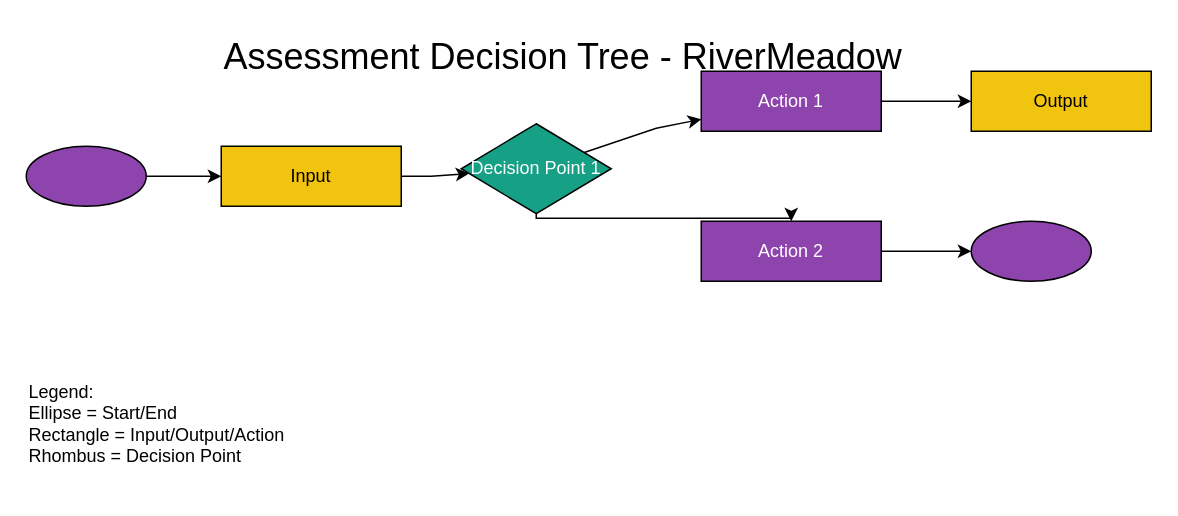
Some shapes in this 1178 by 516 pixel diagram are drawn without their labels. Here are the shapes that lost their labels. From the top down, the centre of each, then its label:
the point at 85,175: Start
the point at 1030,250: End
